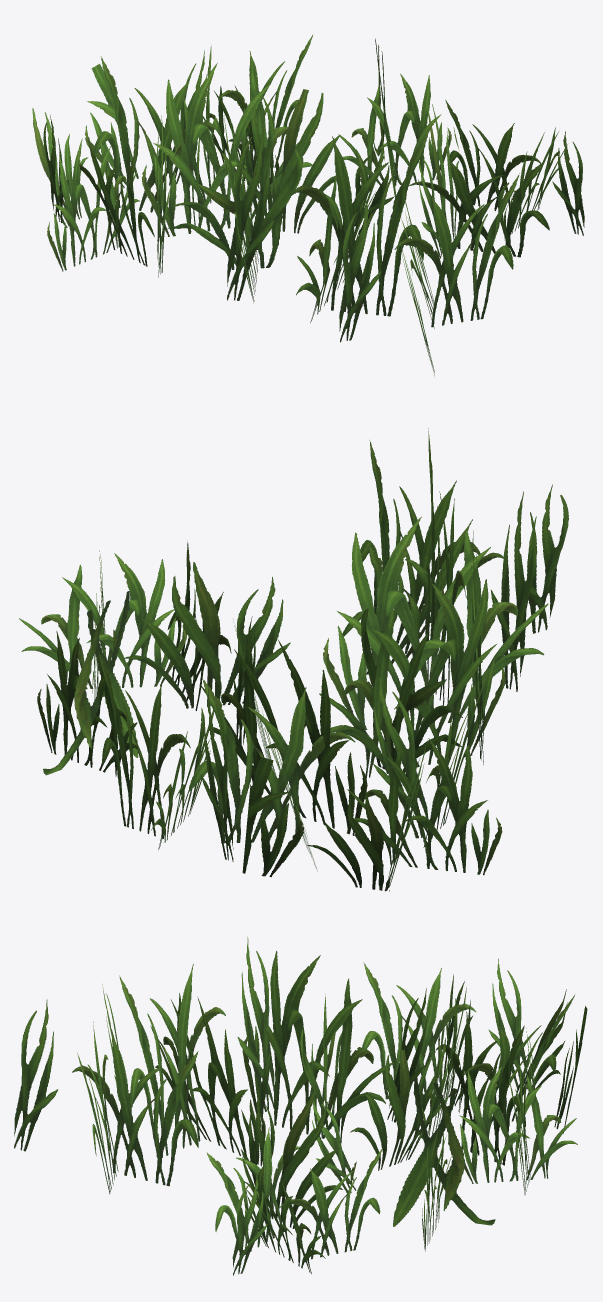
Rendered from xl_huancao_4.FBX.
3 renders of one model, top to bottom at view 1: azimuth 30°, elevation 25°; view 2: azimuth 150°, elevation 25°; view 3: azimuth 270°, elevation 25°, orthographic. The views are drawn at different scales.
Parts seen in each view (by area): view 1: xl_huancao_4; view 2: xl_huancao_4; view 3: xl_huancao_4.
Boxes of the visible parts, x1,y1,x2,y2 form: xl_huancao_4: (32, 35, 584, 375); xl_huancao_4: (19, 428, 568, 891); xl_huancao_4: (14, 937, 587, 1275).
Size of the model in its own units: 320 by 147 by 338.
